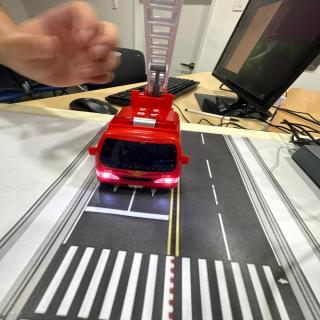Fire_truck: (88, 90, 189, 194)
